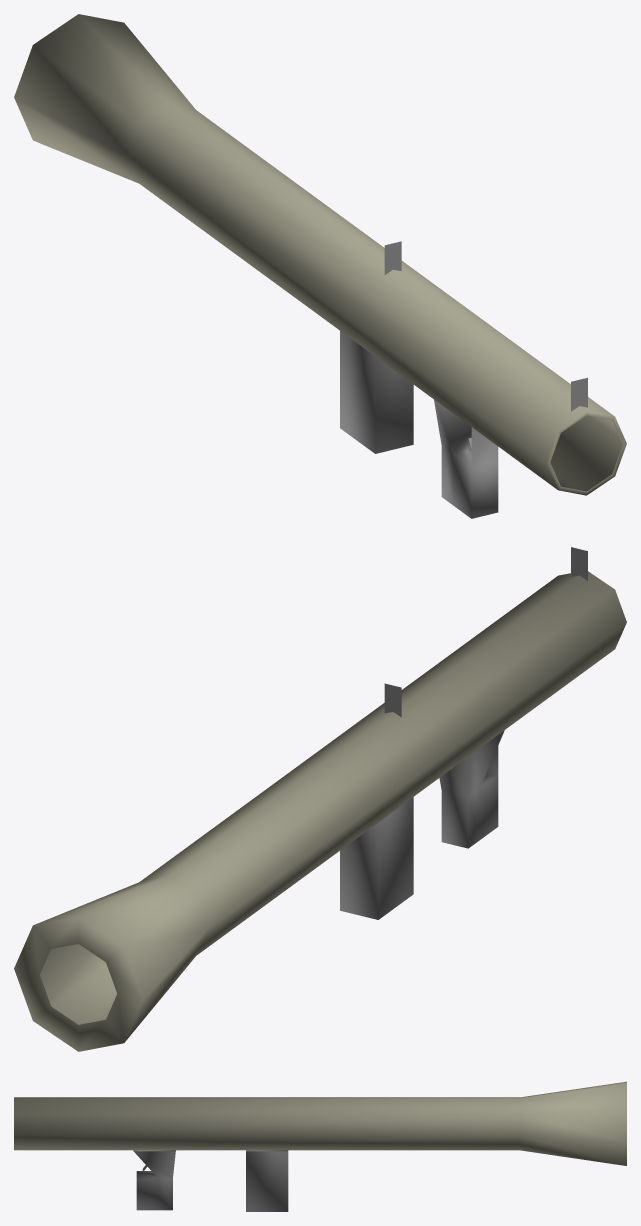
Rendered from bazooka.dae.
3 renders of one model, top to bottom at view 1: azimuth 30°, elevation 25°; view 2: azimuth 150°, elevation 25°; view 3: azimuth 270°, elevation 25°, orthographic. The views are drawn at different scales.
Parts seen in each view (by area): view 1: bazooka; view 2: bazooka; view 3: bazooka.
Part boxes in pixels (x1=…): bazooka: x1=14, y1=14, x2=626, y2=518; bazooka: x1=14, y1=547, x2=626, y2=1051; bazooka: x1=14, y1=1081, x2=626, y2=1211.
Size of the model in its own units: 0.8 by 5.45 by 1.21.
